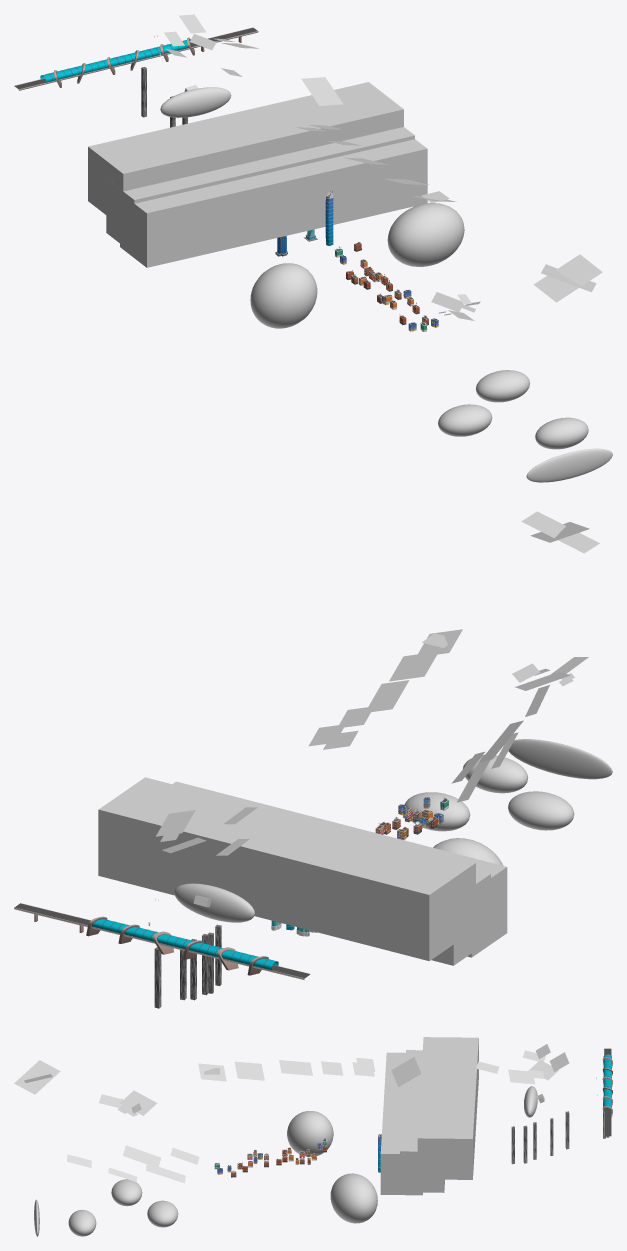
The model's file is formula.glb.
3 renders of one model, top to bottom at view 1: azimuth 30°, elevation 25°; view 2: azimuth 150°, elevation 25°; view 3: azimuth 270°, elevation 25°, orthographic. The views are drawn at different scales.
Visible parts, largest first — view 1: Cube (6) (×2), Cube (7), Cube (8), Capsule (1), Capsule, lake (1), lake, lake (4), lake (2), lake (3), Cube (15); view 2: Cube (7), Cube (6) (×2), Cube (8), lake (1), lake (2), lake, lake (3), lake (4), railway, Capsule, Cube (12), Cube (11); view 3: Cube (7), Cube (6) (×2), Capsule (1), Cube (8), Capsule, Cube (5) (×2), lake (4), lake (2), lake (3), Cube (15), Cube (12), Cube (17) (+4 smaller).
Boxes of the visible parts, left/top/right/bottom form: Cube (6) (×2): left=120, top=139, right=602, bottom=302; Cube (7): left=88, top=82, right=403, bottom=214; Cube (8): left=106, top=127, right=414, bottom=254; Capsule (1): left=387, top=203, right=464, bottom=266; Capsule: left=250, top=263, right=317, bottom=328; lake (1): left=526, top=448, right=612, bottom=482; lake: left=160, top=87, right=231, bottom=117; lake (4): left=476, top=370, right=529, bottom=402; lake (2): left=438, top=404, right=492, bottom=436; lake (3): left=535, top=417, right=588, bottom=449; Cube (15): left=301, top=77, right=343, bottom=105; Cube (7): left=98, top=777, right=475, bottom=961; Cube (6) (×2): left=172, top=511, right=599, bottom=957; Cube (8): left=431, top=870, right=490, bottom=965; lake (1): left=508, top=739, right=612, bottom=779; lake (2): left=508, top=791, right=574, bottom=830; lake: left=174, top=883, right=254, bottom=922; lake (3): left=463, top=755, right=528, bottom=793; lake (4): left=404, top=792, right=470, bottom=831; railway: left=78, top=916, right=179, bottom=954; Capsule: left=433, top=838, right=503, bottom=865; Cube (12): left=389, top=651, right=438, bottom=681; Cube (11): left=368, top=680, right=409, bottom=711; Cube (7): left=417, top=1037, right=478, bottom=1179; Cube (6) (×2): left=380, top=1052, right=534, bottom=1195; Capsule (1): left=330, top=1173, right=377, bottom=1223; Cube (8): left=400, top=1050, right=444, bottom=1192; Capsule: left=287, top=1111, right=333, bottom=1156; Cube (5) (×2): left=14, top=1060, right=157, bottom=1115; lake (4): left=147, top=1200, right=178, bottom=1227; lake (2): left=111, top=1179, right=142, bottom=1206; lake (3): left=68, top=1209, right=96, bottom=1236; Cube (15): left=391, top=1057, right=421, bottom=1086; Cube (12): left=234, top=1061, right=264, bottom=1080; Cube (17): left=123, top=1145, right=160, bottom=1167.
Size of the model in its own units: 333 by 237 by 779.
Materials: 13 (7 with a texture image).
